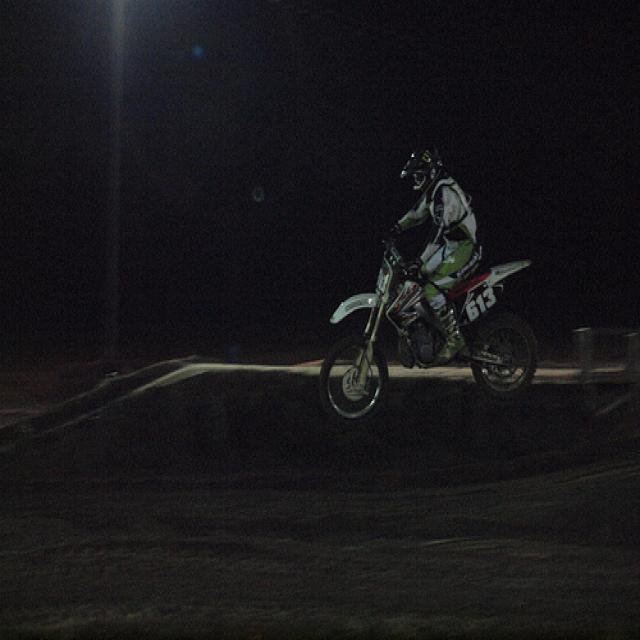Motorbike: (326, 284, 551, 415)
People: (383, 128, 496, 345)
